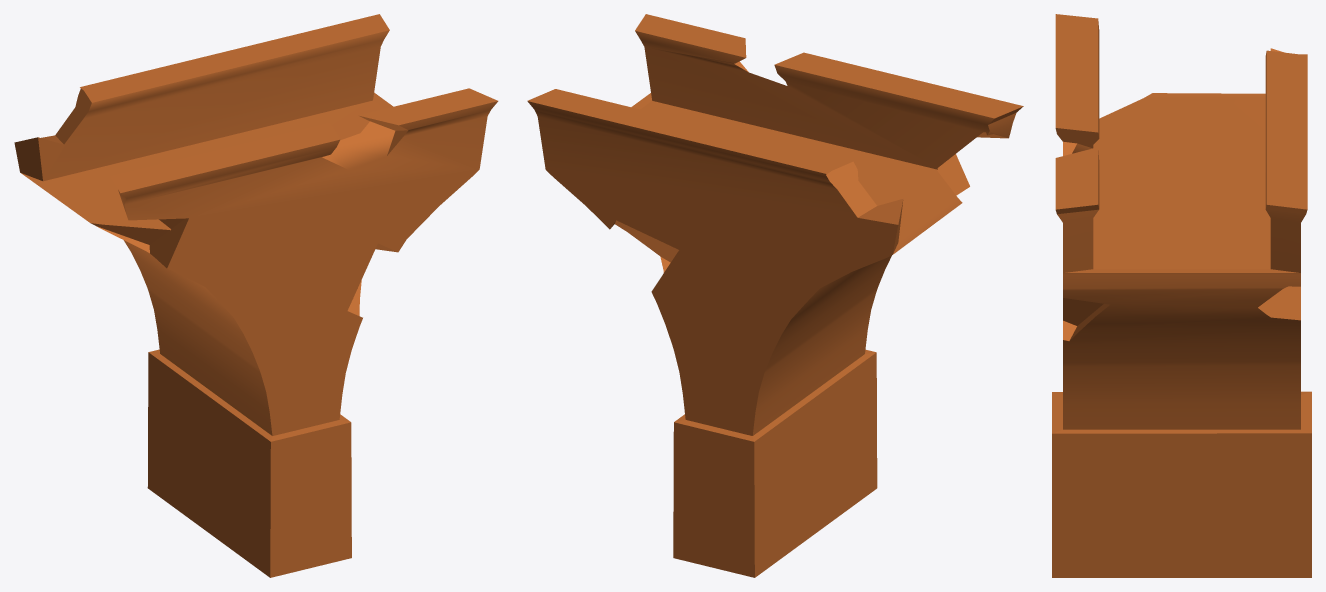
File: old_bridge02.fbx
The picture shows the model from 3 angles, left to right: view 1: azimuth 30°, elevation 25°; view 2: azimuth 150°, elevation 25°; view 3: azimuth 270°, elevation 25°; orthographic projection. The views are drawn at different scales.
Parts seen in each view (by area): view 1: old_bridge02; view 2: old_bridge02; view 3: old_bridge02.
Part boxes in pixels (x1=…): old_bridge02: x1=14, y1=14, x2=498, y2=577; old_bridge02: x1=527, y1=14, x2=1023, y2=577; old_bridge02: x1=1052, y1=14, x2=1311, y2=577.
Size of the model in its own units: 9.27 by 9.83 by 5.2.
